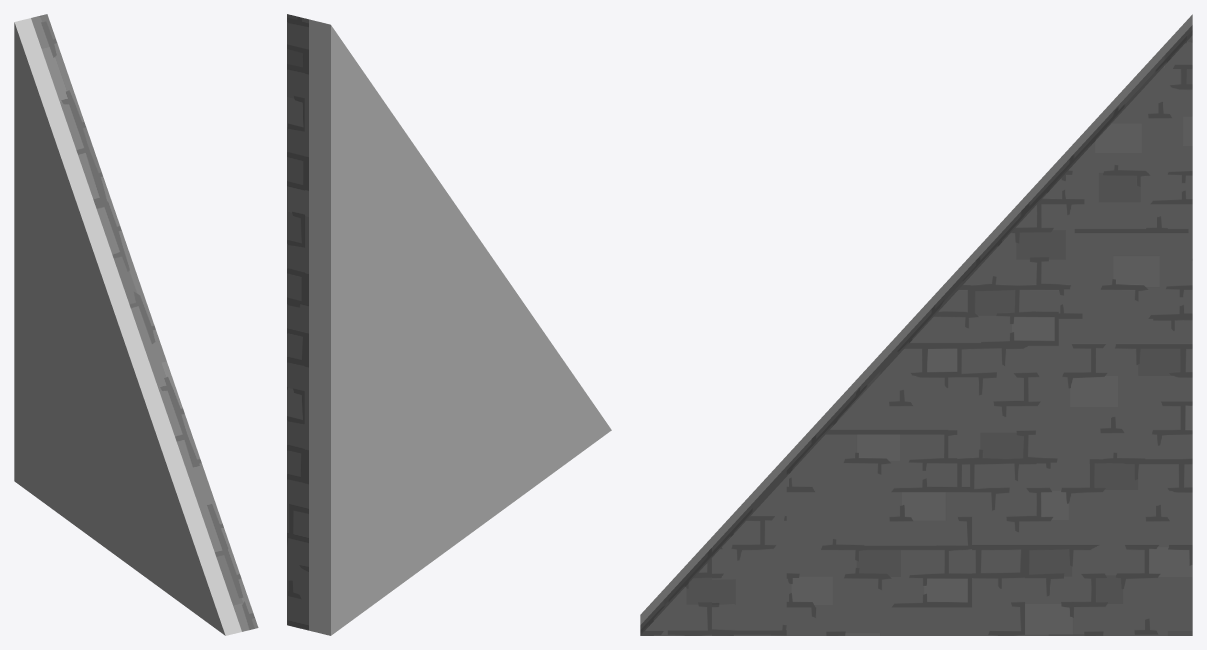
File: SM_Bld_Wall_End_Straight_01.fbx
3 views of the same model, side by side, from view 1: azimuth 30°, elevation 25°; view 2: azimuth 150°, elevation 25°; view 3: azimuth 270°, elevation 25° (orthographic). The views are drawn at different scales.
Parts seen in each view (by area): view 1: SM_Bld_Wall_End_Straight_01; view 2: SM_Bld_Wall_End_Straight_01; view 3: SM_Bld_Wall_End_Straight_01.
Boxes of the visible parts, x1=… form: SM_Bld_Wall_End_Straight_01: x1=14, y1=14, x2=258, y2=635; SM_Bld_Wall_End_Straight_01: x1=287, y1=14, x2=611, y2=635; SM_Bld_Wall_End_Straight_01: x1=640, y1=14, x2=1192, y2=635.
Size of the model in its own units: 22.5 by 300 by 250.
